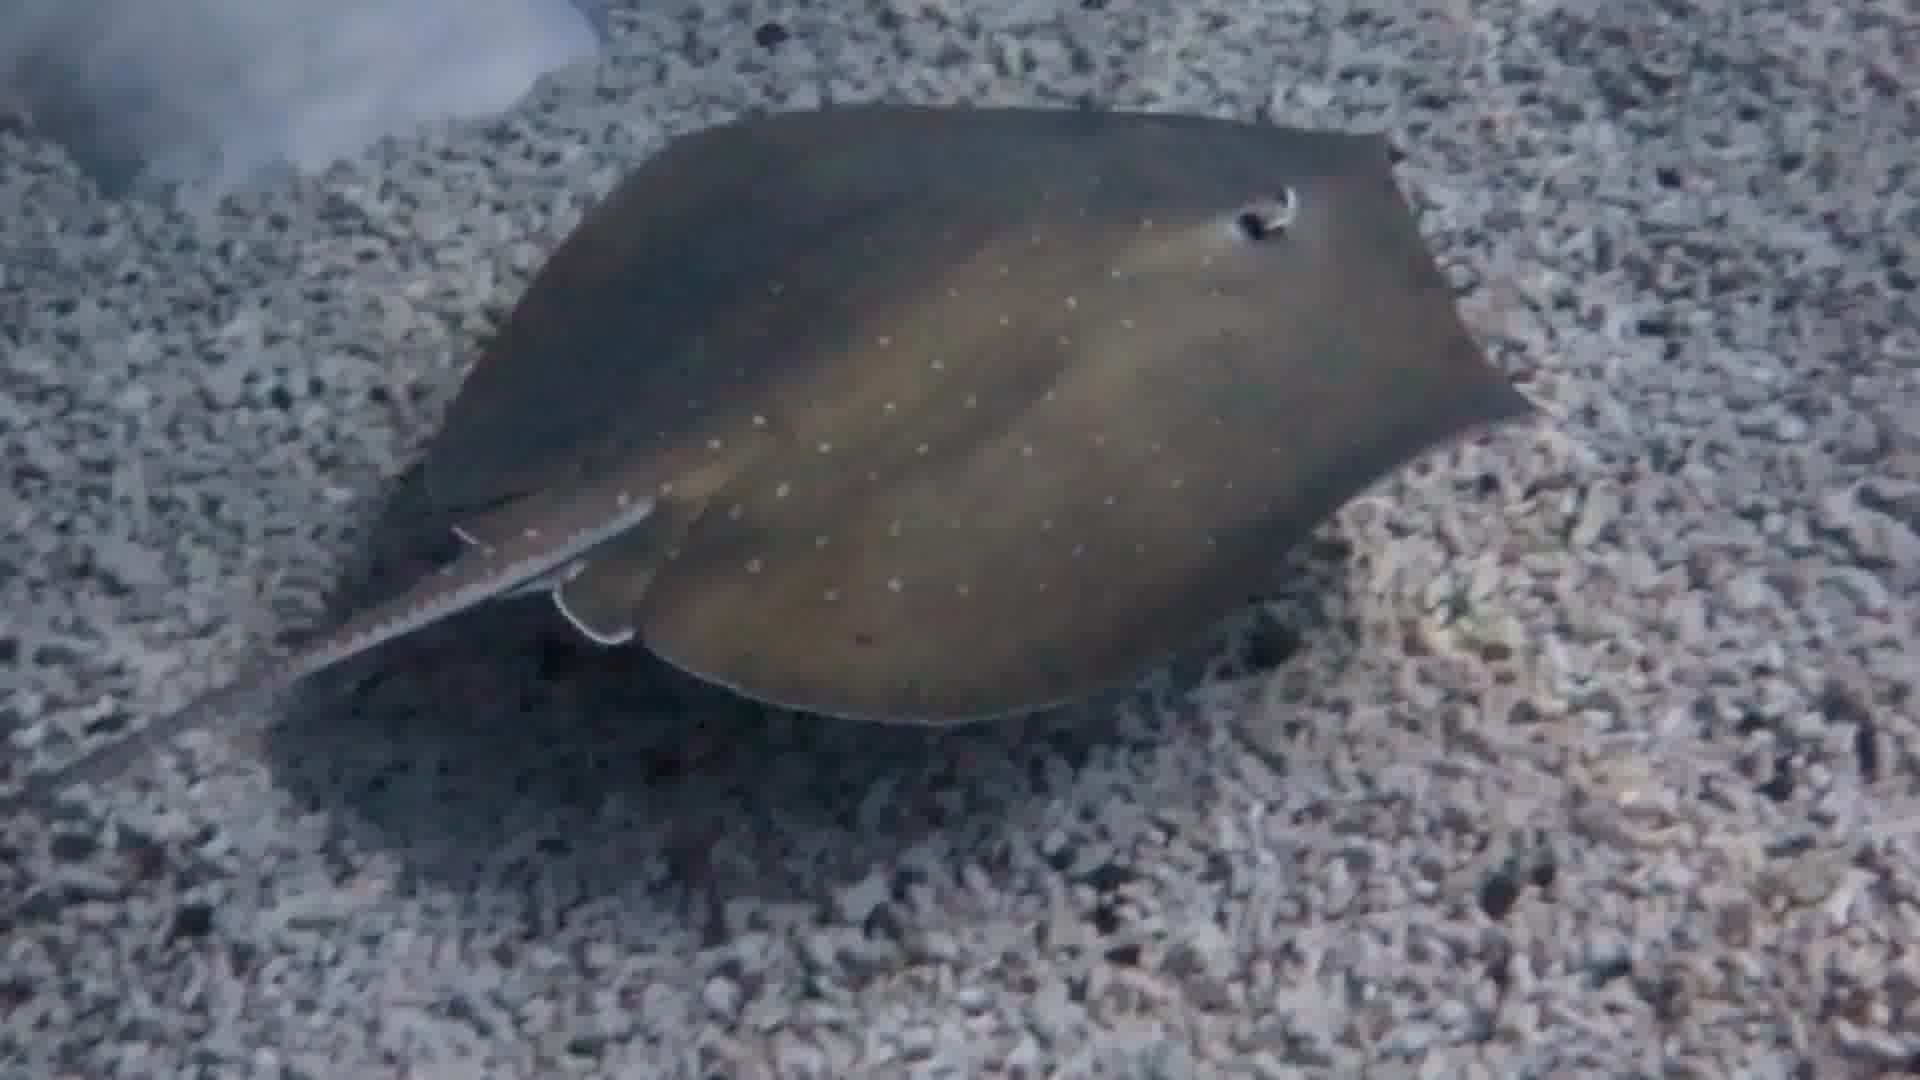Himantura gerrardi: (1, 104, 1503, 744)
